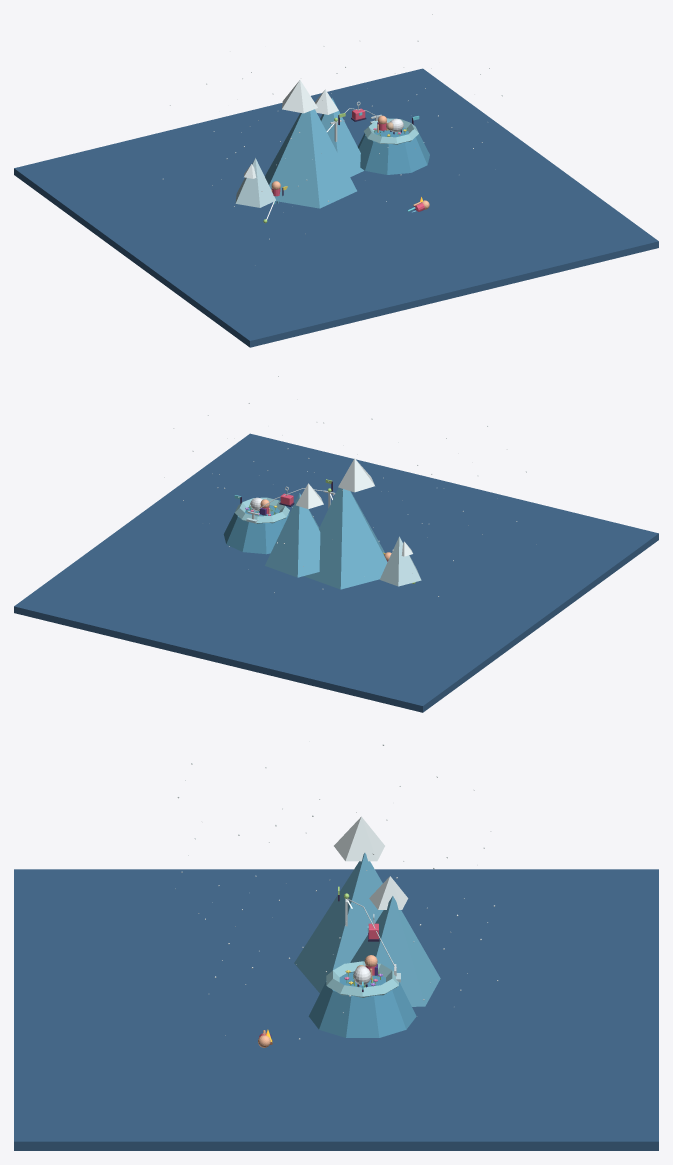
The model's file is snowline_full_scene.glb.
The picture shows the model from 3 angles, top to bottom: view 1: azimuth 30°, elevation 25°; view 2: azimuth 150°, elevation 25°; view 3: azimuth 270°, elevation 25°; orthographic projection. The views are drawn at different scales.
Parts seen in each view (by area): view 1: ENV_Ground, PEAK_Main_Body, MEADOW_Outer_Wall, PEAK_Back_Body, PEAK_Start_Body, PEAK_Main_Snowcap, MEADOW_Rim; view 2: ENV_Ground, PEAK_Main_Body, PEAK_Back_Body, MEADOW_Outer_Wall, PEAK_Start_Body, PEAK_Main_Snowcap, MEADOW_Rim; view 3: ENV_Ground, PEAK_Main_Body, MEADOW_Outer_Wall, PEAK_Back_Body, PEAK_Main_Snowcap, MEADOW_Rim, PEAK_Back_Snowcap.
Part boxes in pixels (x1,y1,x2,y2): ENV_Ground: (14, 68, 658, 347); PEAK_Main_Body: (265, 109, 356, 208); MEADOW_Outer_Wall: (358, 127, 429, 174); PEAK_Back_Body: (320, 98, 364, 177); PEAK_Start_Body: (235, 158, 275, 207); PEAK_Main_Snowcap: (282, 80, 317, 113); MEADOW_Rim: (364, 118, 418, 144); ENV_Ground: (14, 433, 658, 712); PEAK_Main_Body: (304, 487, 387, 589); PEAK_Back_Body: (265, 493, 320, 577); MEADOW_Outer_Wall: (223, 505, 289, 554); PEAK_Start_Body: (379, 536, 421, 586); PEAK_Main_Snowcap: (338, 458, 374, 492); MEADOW_Rim: (234, 497, 289, 523); ENV_Ground: (14, 869, 658, 1150); PEAK_Main_Body: (294, 853, 383, 993); MEADOW_Outer_Wall: (308, 972, 416, 1037); PEAK_Back_Body: (350, 896, 440, 1006); PEAK_Main_Snowcap: (334, 816, 384, 861); MEADOW_Rim: (326, 961, 398, 997); PEAK_Back_Snowcap: (369, 876, 408, 909).
Size of the model in its own units: 32 by 10.79 by 32.
